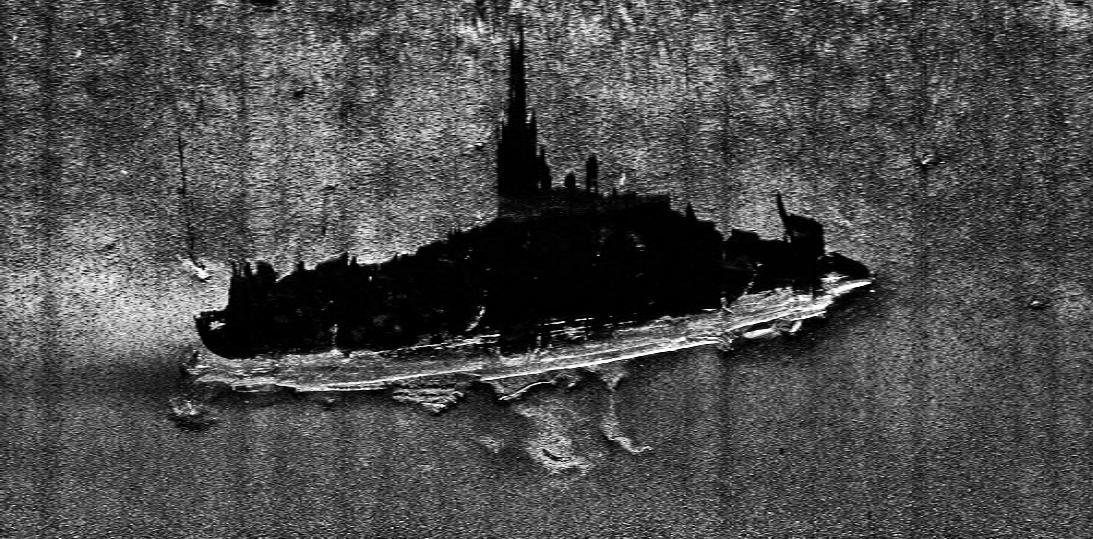ship: (182, 270, 876, 416)
